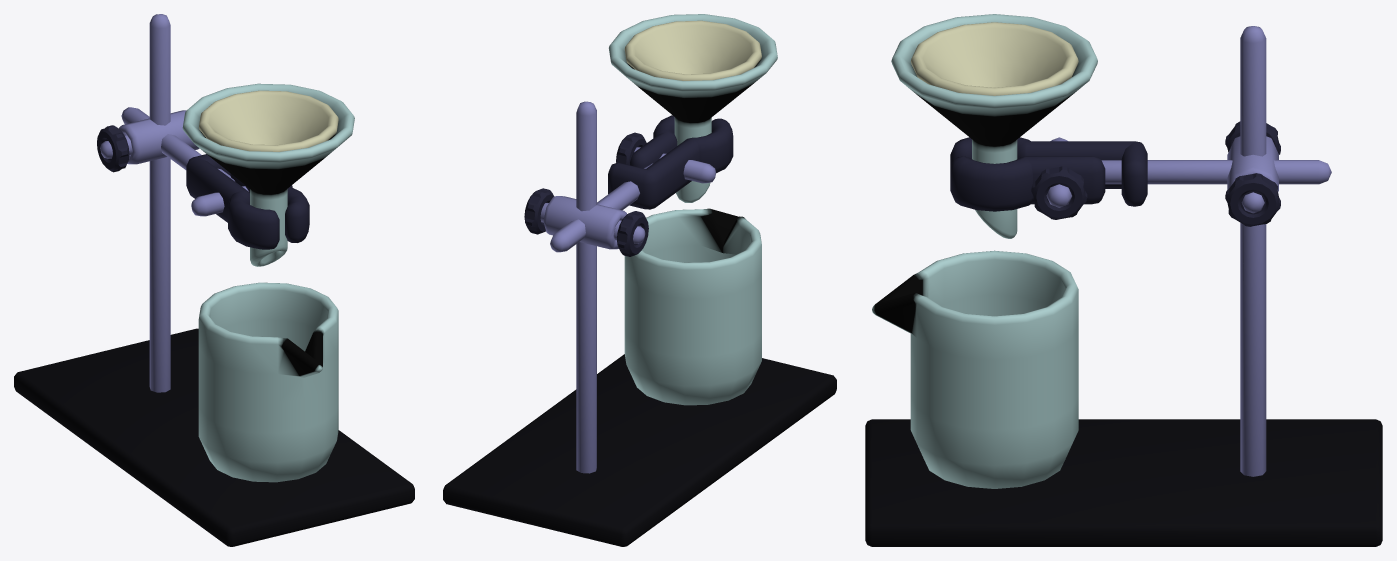
File: LastLuna_Model_Station_Filter.fbx
3 views of the same model, side by side, from view 1: azimuth 30°, elevation 25°; view 2: azimuth 150°, elevation 25°; view 3: azimuth 270°, elevation 25° (orthographic). The views are drawn at different scales.
Visible parts, largest first — view 1: Stand_Base001, Beaker001, Funnel001, Stand_Pole001, Funnel_Filter001, Stand_Arm_Clamp_Base001, Stand_Fixture001, Stand_Arm_Clamp_001, Stand_Arm_Clamp001, Stand_Fixture_Handle001, Stand_Arm_Fixture_Clamp001; view 2: Stand_Base001, Beaker001, Funnel001, Stand_Pole001, Funnel_Filter001, Stand_Arm_Clamp_Base001, Stand_Fixture001, Stand_Fixture_Handle001, Stand_Arm_Clamp001, Stand_Arm_Clamp_001, Stand_Arm_Fixture_Clamp001, Stand_Arm_Fixture_Clamp_Handle001; view 3: Stand_Base001, Beaker001, Funnel001, Stand_Pole001, Funnel_Filter001, Stand_Arm_Clamp_001, Stand_Arm_Clamp_Base001, Stand_Arm_Clamp001, Stand_Fixture_Handle001, Stand_Arm_Fixture_Clamp_Handle001, Stand_Fixture001.
Boxes of the visible parts, x1,y1,x2,y2 form: Stand_Base001: (14,328,414,546); Beaker001: (198,282,338,482); Funnel001: (182,83,354,266); Stand_Pole001: (149,14,170,392); Funnel_Filter001: (199,90,338,151); Stand_Arm_Clamp_Base001: (186,154,279,249); Stand_Fixture001: (100,110,199,164); Stand_Arm_Clamp_001: (230,173,309,242); Stand_Arm_Clamp001: (121,107,234,181); Stand_Fixture_Handle001: (97,125,129,172); Stand_Arm_Fixture_Clamp001: (191,186,248,216); Stand_Base001: (443,354,836,546); Beaker001: (624,208,761,405); Funnel001: (608,14,777,202); Stand_Pole001: (576,101,596,473); Funnel_Filter001: (624,20,761,80); Stand_Arm_Clamp_Base001: (608,118,733,209); Stand_Fixture001: (540,196,645,249); Stand_Fixture_Handle001: (524,188,648,256); Stand_Arm_Clamp001: (550,163,652,252); Stand_Arm_Clamp_001: (630,115,677,168); Stand_Arm_Fixture_Clamp001: (634,147,715,183); Stand_Arm_Fixture_Clamp_Handle001: (616,132,646,165); Stand_Base001: (865,419,1382,546); Beaker001: (872,250,1078,488); Funnel001: (891,14,1097,238); Stand_Pole001: (1240,26,1266,476); Funnel_Filter001: (910,22,1078,95); Stand_Arm_Clamp_001: (950,156,1105,211); Stand_Arm_Clamp_Base001: (950,137,1147,206); Stand_Arm_Clamp001: (1101,160,1331,184); Stand_Fixture_Handle001: (1225,121,1280,226); Stand_Arm_Fixture_Clamp_Handle001: (1031,166,1087,219); Stand_Fixture001: (1227,136,1278,213).
Bounding box in the file's own units: 39.37 × 78.74 × 78.74.
